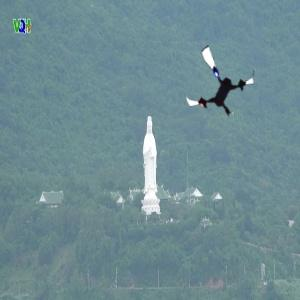drone: (180, 45, 259, 124)
